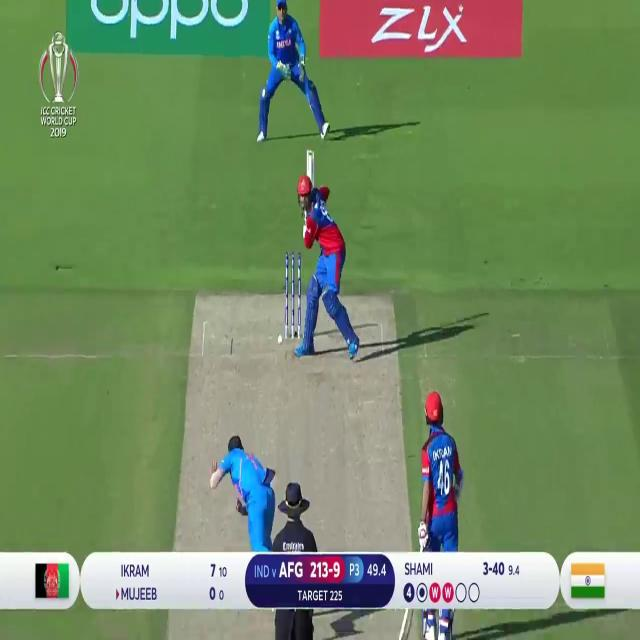ball: (277, 330, 285, 342)
